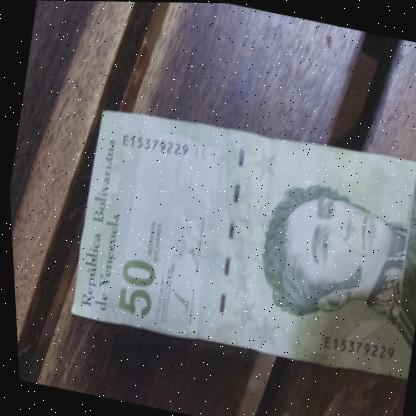fifty-front-vef: (57, 95, 416, 384)
